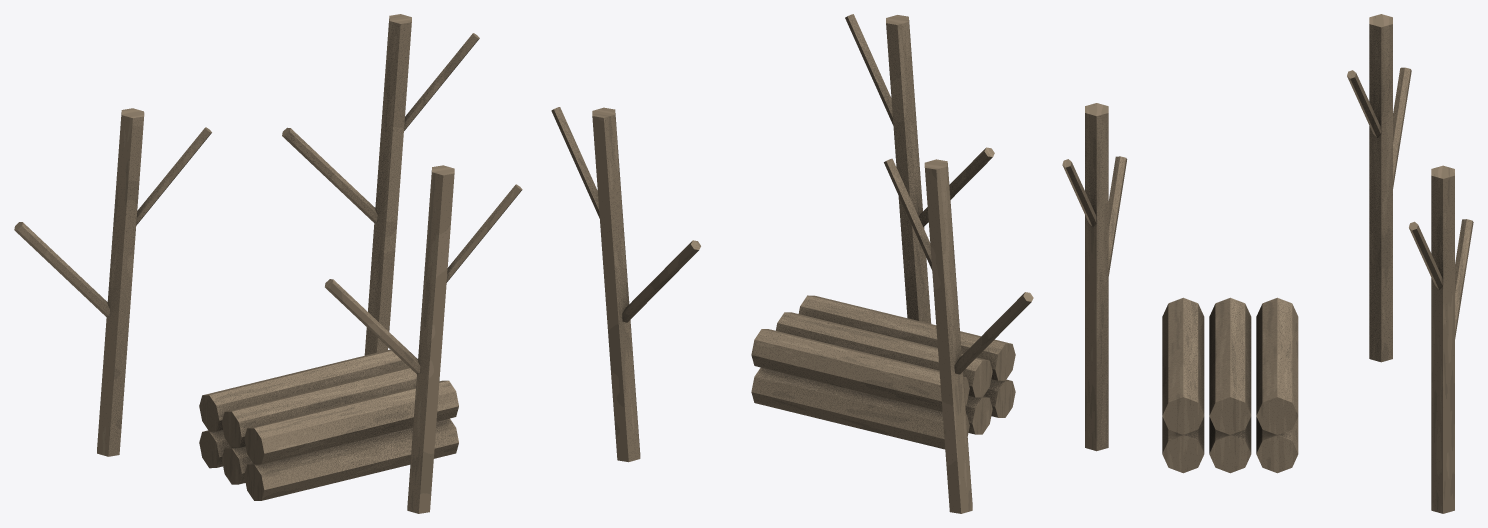
Rendered from LumberYard.fbx.
3 views of the same model, side by side, from view 1: azimuth 30°, elevation 25°; view 2: azimuth 150°, elevation 25°; view 3: azimuth 270°, elevation 25° (orthographic). The views are drawn at different scales.
Parts seen in each view (by area): view 1: LumberYard; view 2: LumberYard; view 3: LumberYard.
Part boxes in pixels (box(x1,y1,x2,y2)): LumberYard: box(14, 14, 522, 513); LumberYard: box(551, 14, 1033, 513); LumberYard: box(1062, 14, 1473, 513).
Bounding box in the file's own units: 2.28 × 1.56 × 1.66.
Materials: 1 (1 with a texture image).
